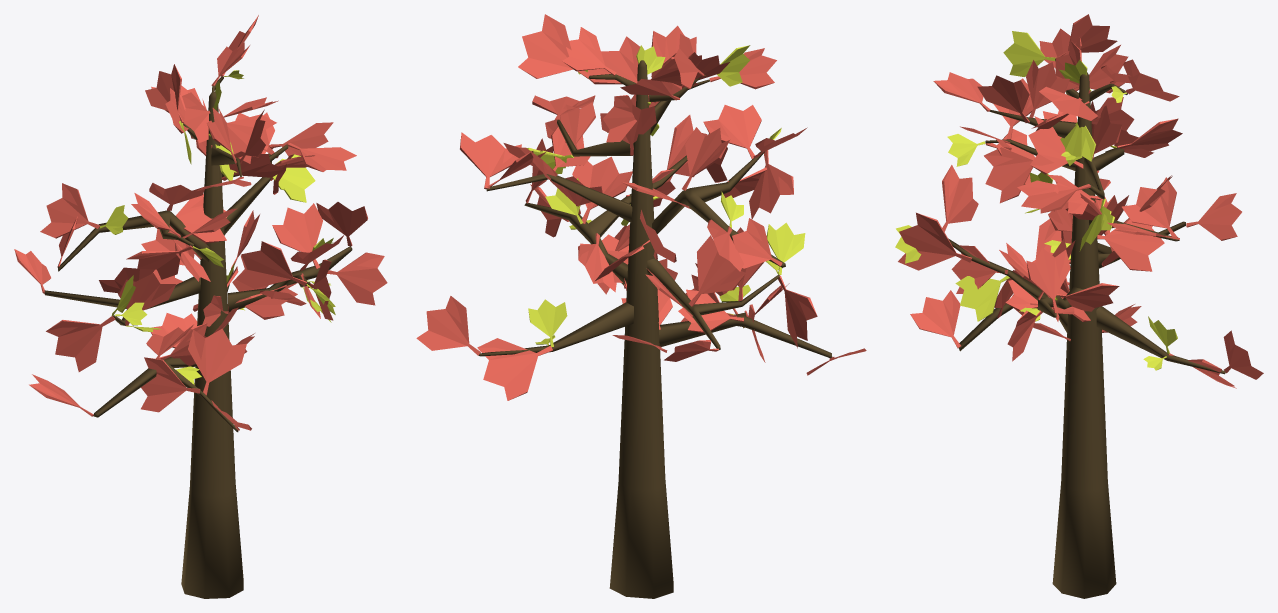
Rendered from tree_maple.glb.
The picture shows the model from 3 angles, left to right: view 1: azimuth 30°, elevation 25°; view 2: azimuth 150°, elevation 25°; view 3: azimuth 270°, elevation 25°; orthographic projection. The views are drawn at different scales.
Parts seen in each view (by area): view 1: fruit, body, branch, leaf; view 2: fruit, body, branch, leaf; view 3: fruit, body, leaf, branch.
Part boxes in pixels (x1=…): fruit: x1=14, y1=15, x2=387, y2=430; body: x1=181, y1=91, x2=243, y2=598; branch: x1=44, y1=76, x2=352, y2=432; leaf: x1=100, y1=70, x2=335, y2=384; fruit: x1=416, y1=14, x2=866, y2=400; body: x1=609, y1=60, x2=673, y2=598; branch: x1=478, y1=74, x2=832, y2=357; leaf: x1=527, y1=45, x2=805, y2=347; fruit: x1=898, y1=14, x2=1263, y2=388; body: x1=1052, y1=72, x2=1116, y2=598; leaf: x1=895, y1=31, x2=1177, y2=370; branch: x1=948, y1=59, x2=1225, y2=374.
Size of the model in its own units: 0.7268 by 1.09 by 0.6508.
